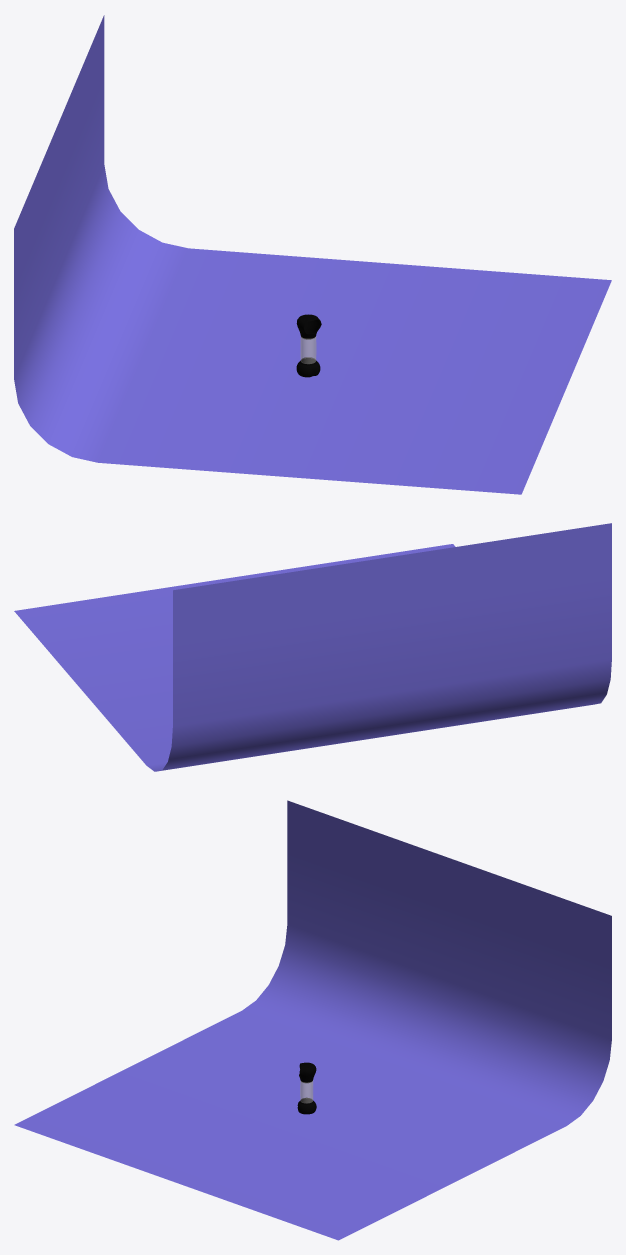
Rendered from dog.glb.
3 renders of one model, top to bottom at view 1: azimuth 30°, elevation 25°; view 2: azimuth 150°, elevation 25°; view 3: azimuth 270°, elevation 25°, orthographic. The views are drawn at different scales.
Visible parts, largest first — view 1: Plane; view 2: Plane; view 3: Plane.
Boxes of the visible parts, left/top/right/bottom form: Plane: left=14, top=15, right=611, bottom=494; Plane: left=14, top=523, right=611, bottom=771; Plane: left=14, top=800, right=611, bottom=1240.
Bounding box in the file's own units: 92.15 × 32.19 × 92.15.
